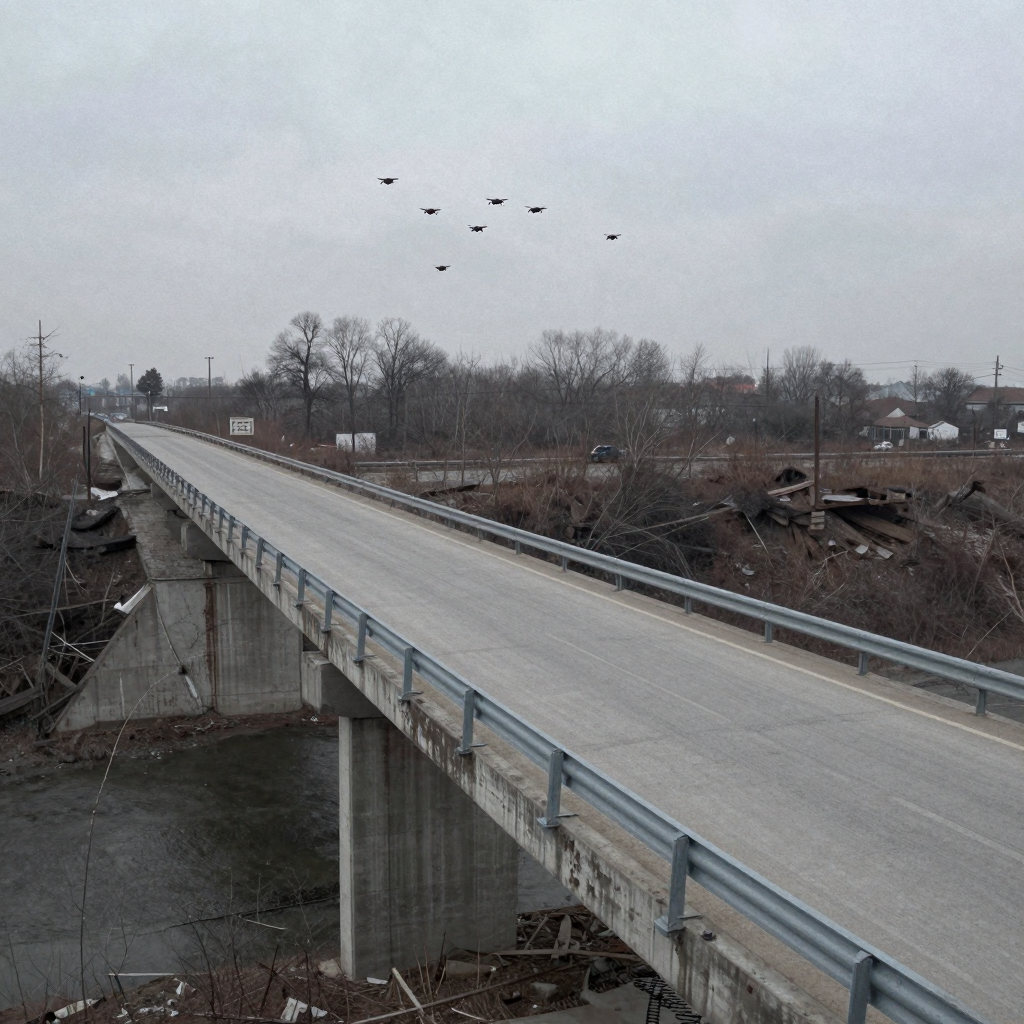drone: (524, 206, 547, 214), (486, 198, 508, 206), (419, 208, 441, 216), (377, 177, 399, 185), (468, 225, 488, 233), (604, 233, 622, 241), (434, 265, 451, 272)
